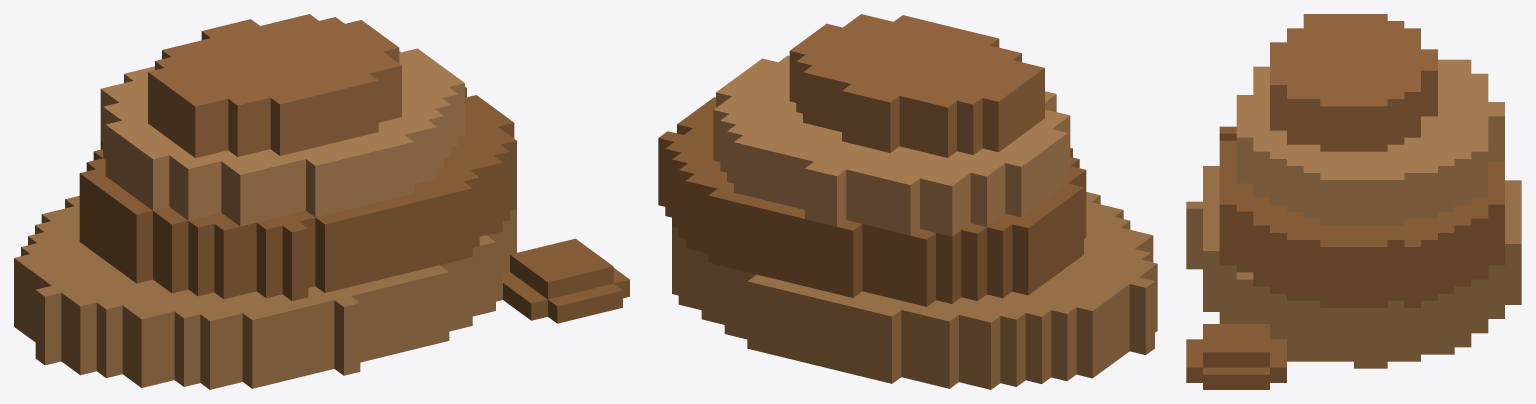
File: prop_mesa.glb
3 views of the same model, side by side, from view 1: azimuth 30°, elevation 25°; view 2: azimuth 150°, elevation 25°; view 3: azimuth 270°, elevation 25° (orthographic). The views are drawn at different scales.
Visible parts, largest first — view 1: prop_mesa; view 2: prop_mesa; view 3: prop_mesa.
Part boxes in pixels (x1,y1,x2,y2): prop_mesa: (14, 14, 629, 389); prop_mesa: (658, 14, 1157, 389); prop_mesa: (1186, 14, 1521, 389).
Size of the model in its own units: 3.1 by 1.4 by 2.
